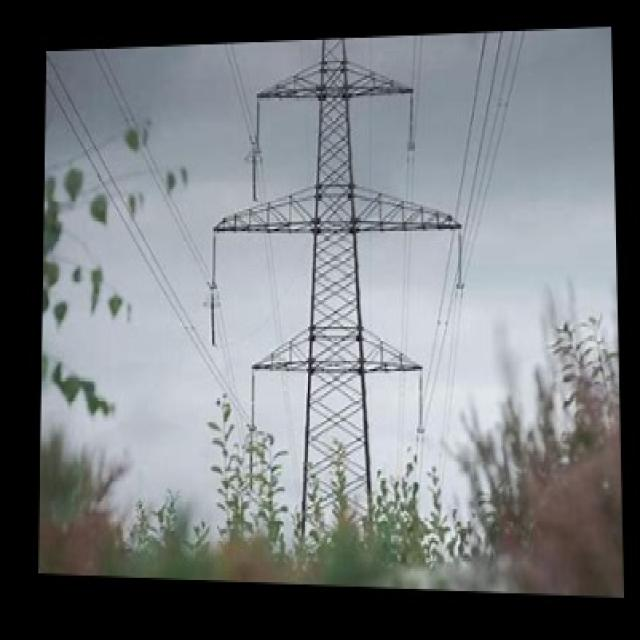utility poles: (209, 370, 462, 583)
